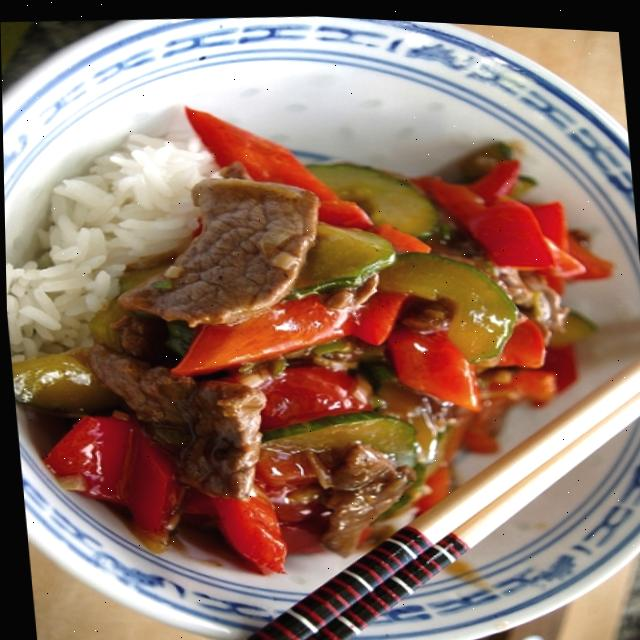牛肉菜式: (1, 37, 640, 640)
